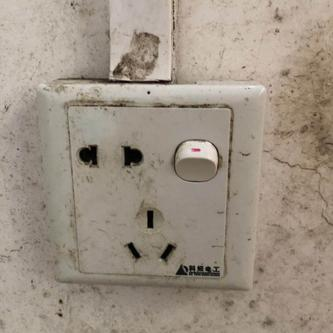switch: (171, 137, 223, 181)
